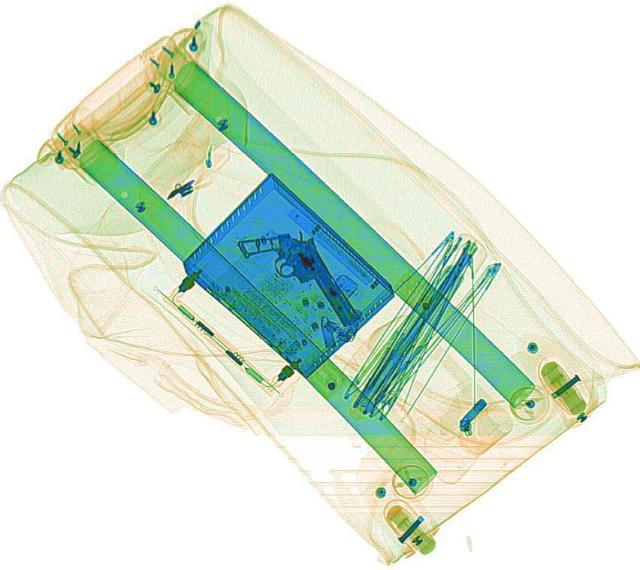Gun: (233, 216, 359, 344)
